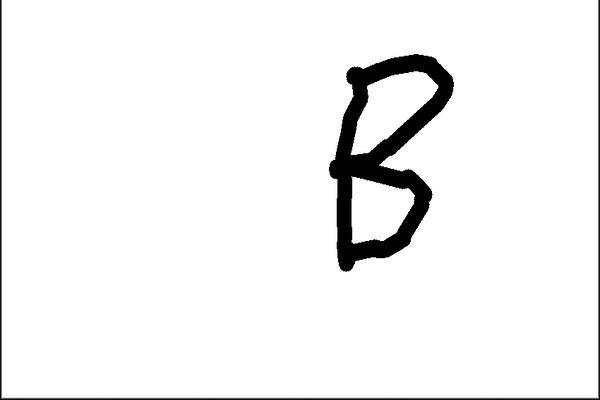B: (323, 45, 460, 283)
